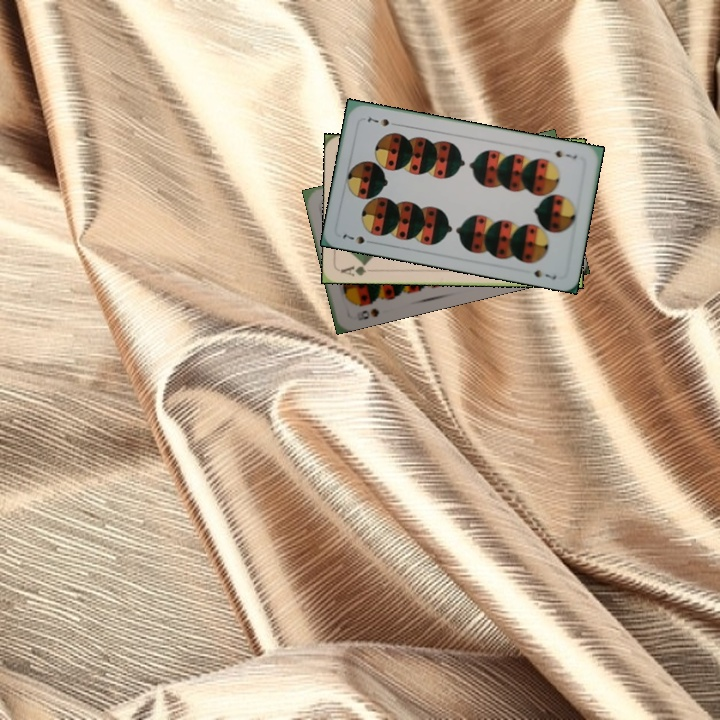GA: (337, 259, 378, 279)
S7: (338, 230, 377, 247), (551, 146, 580, 161)
S8: (358, 304, 382, 322)
